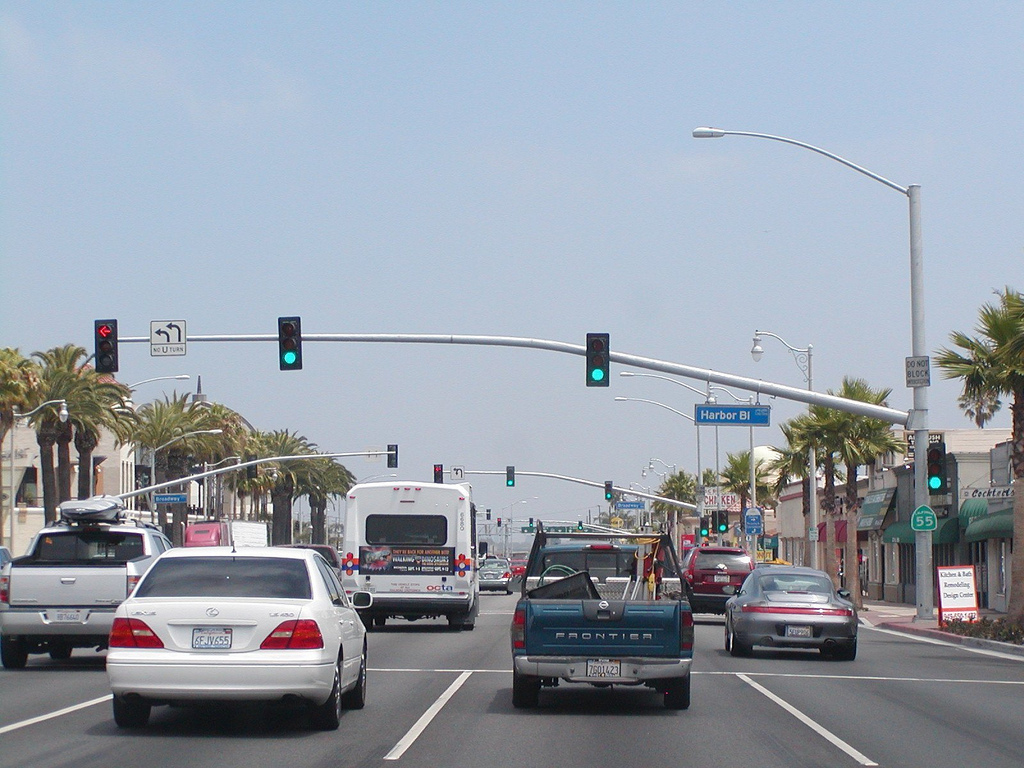traffic_light: (276, 315, 305, 372), (584, 332, 611, 389), (93, 318, 120, 374), (924, 441, 950, 497)
